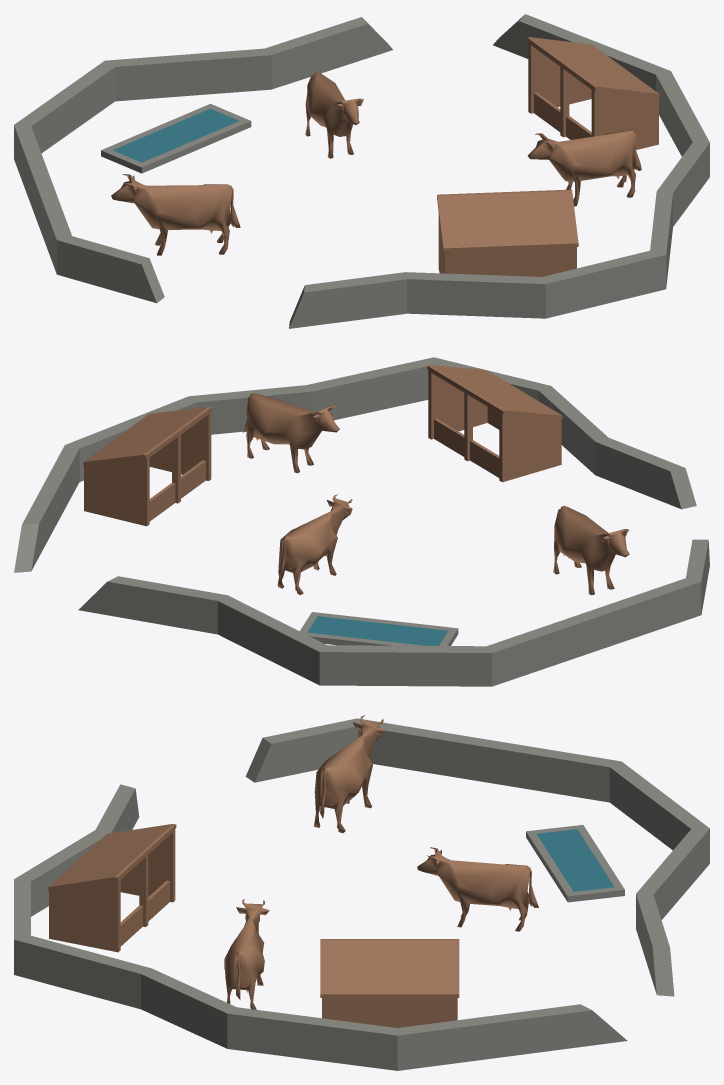
File: MJ_Building_Pasture.fbx
3 views of the same model, one above another, from view 1: azimuth 30°, elevation 25°; view 2: azimuth 150°, elevation 25°; view 3: azimuth 270°, elevation 25° (orthographic). The views are drawn at different scales.
Visible parts, largest first — view 1: Group1, cow1, cow3, cow2; view 2: Group1, cow3, cow1, cow2; view 3: Group1, cow2, cow1, cow3.
Part boxes in pixels (x1=…): Group1: x1=14, y1=14, x2=709, y2=328; cow1: x1=111, y1=174, x2=240, y2=255; cow3: x1=527, y1=130, x2=641, y2=206; cow2: x1=305, y1=72, x2=363, y2=158; Group1: x1=14, y1=357, x2=709, y2=686; cow3: x1=242, y1=393, x2=339, y2=473; cow1: x1=553, y1=506, x2=629, y2=595; cow2: x1=277, y1=494, x2=352, y2=594; Group1: x1=14, y1=718, x2=709, y2=1070; cow2: x1=417, y1=847, x2=538, y2=931; cow1: x1=313, y1=715, x2=384, y2=833; cow3: x1=224, y1=899, x2=269, y2=1009.
Size of the model in its own units: 4.42 by 0.49 by 4.1.
